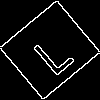L: (25, 25, 76, 78)
